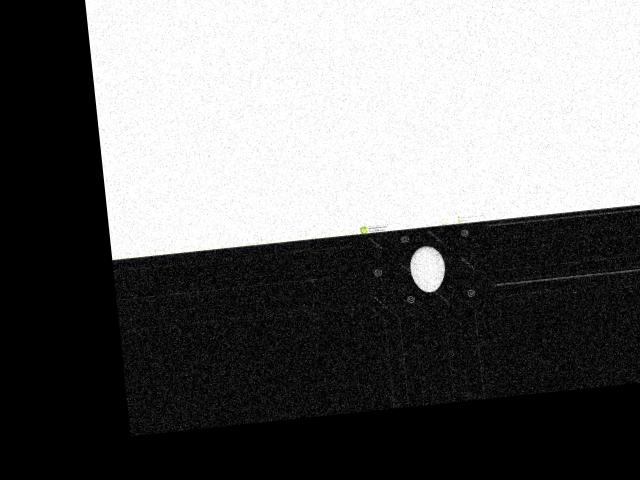egg: (409, 244, 448, 293)
